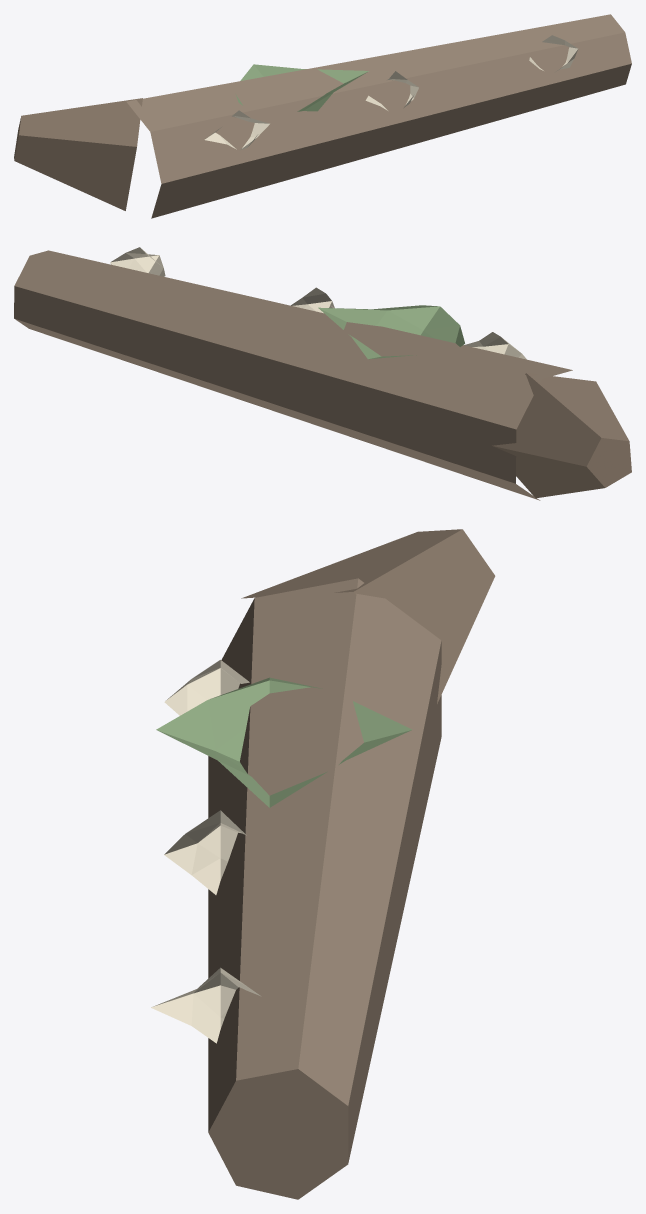
The model's file is log_v25.glb.
The picture shows the model from 3 angles, top to bottom: view 1: azimuth 30°, elevation 25°; view 2: azimuth 150°, elevation 25°; view 3: azimuth 270°, elevation 25°; orthographic projection. The views are drawn at different scales.
Parts seen in each view (by area): view 1: lod0; view 2: lod0; view 3: lod0.
Boxes of the visible parts, x1,y1,x2,y2 form: lod0: (14, 14, 631, 218); lod0: (14, 247, 631, 500); lod0: (151, 529, 495, 1199).
Size of what is drawn, in the model's own units: 2.56 by 0.5251 by 0.6742.
